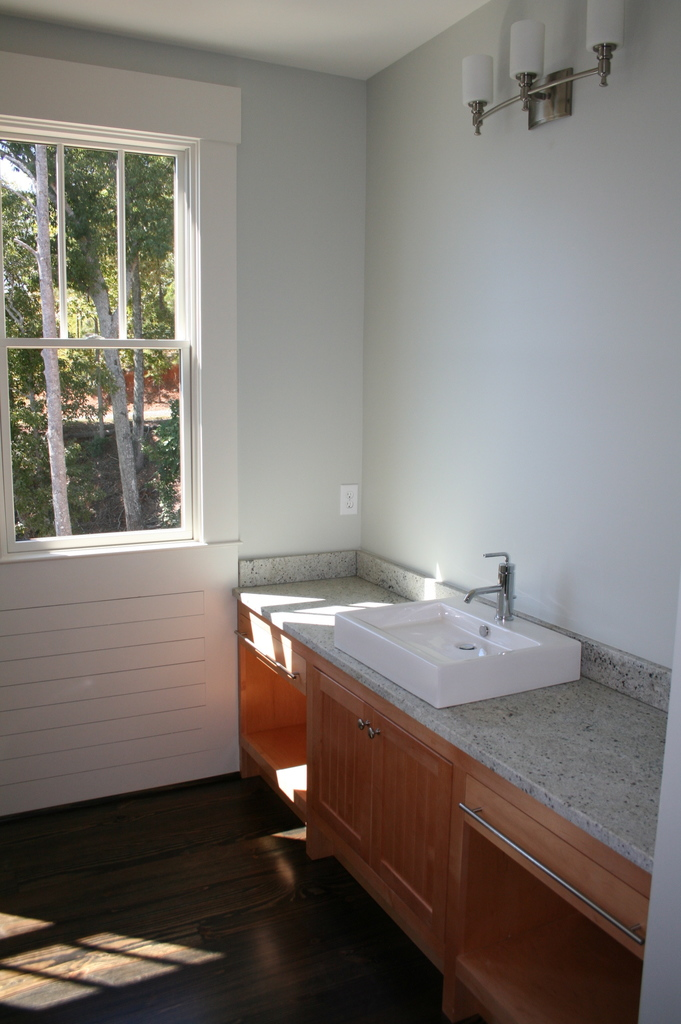tap: (462, 547, 512, 620)
